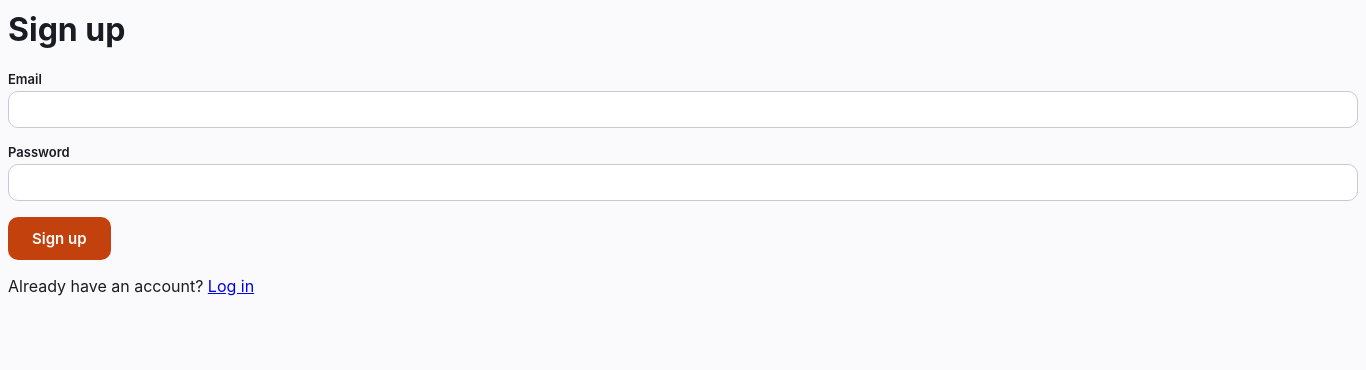
Test: SignUpPage › renders the server error inline instead of a silent failure (AD-17)
The image size is (1366, 370).
In the field labelled "Email": {"x": 683, "y": 109} [8,91,1358,128], type "learner@example.com"
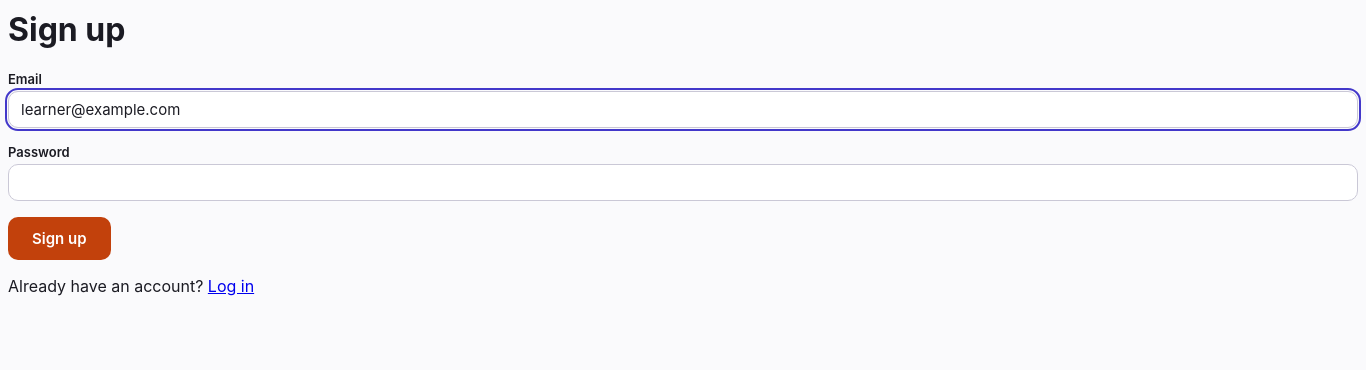
In the password field labelled "Password": {"x": 683, "y": 182} [8,164,1358,201], type "a-long-enough-password"
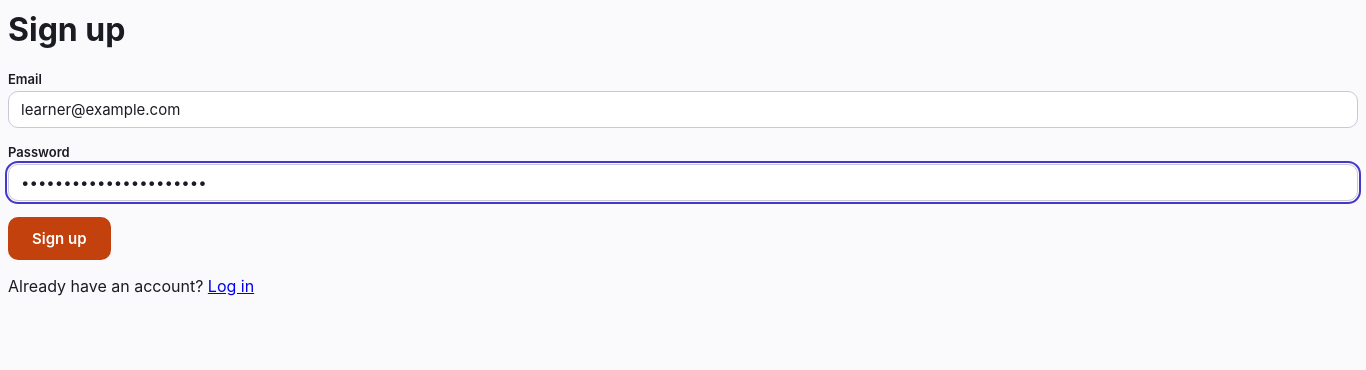
Click the button "Sign up": {"x": 59, "y": 238} [8,217,111,260]
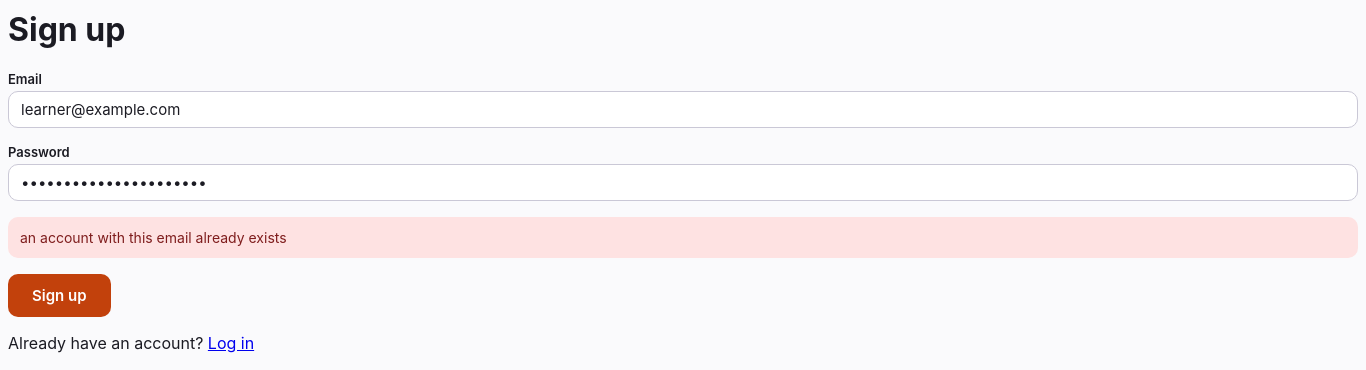
Now the message shows "already exists", box [20,229,287,246]
